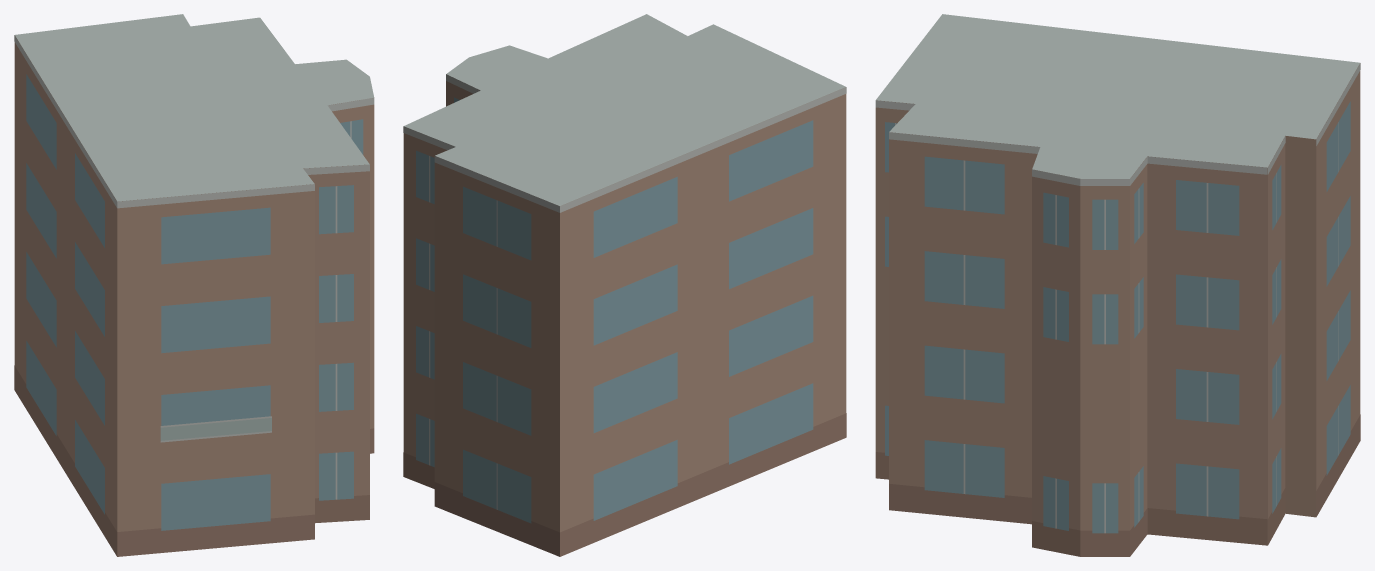
Rendered from survey-upis-33046906.glb.
The picture shows the model from 3 angles, left to right: view 1: azimuth 30°, elevation 25°; view 2: azimuth 150°, elevation 25°; view 3: azimuth 270°, elevation 25°; orthographic projection. The views are drawn at different scales.
Parts seen in each view (by area): view 1: survey-upis-33046906.tmp; view 2: survey-upis-33046906.tmp; view 3: survey-upis-33046906.tmp.
Part boxes in pixels (box(x1,y1,x2,y2)): survey-upis-33046906.tmp: box(14, 14, 374, 556); survey-upis-33046906.tmp: box(403, 14, 846, 556); survey-upis-33046906.tmp: box(875, 14, 1360, 556).
Size of the model in its own units: 11.89 by 12.7 by 14.77.
